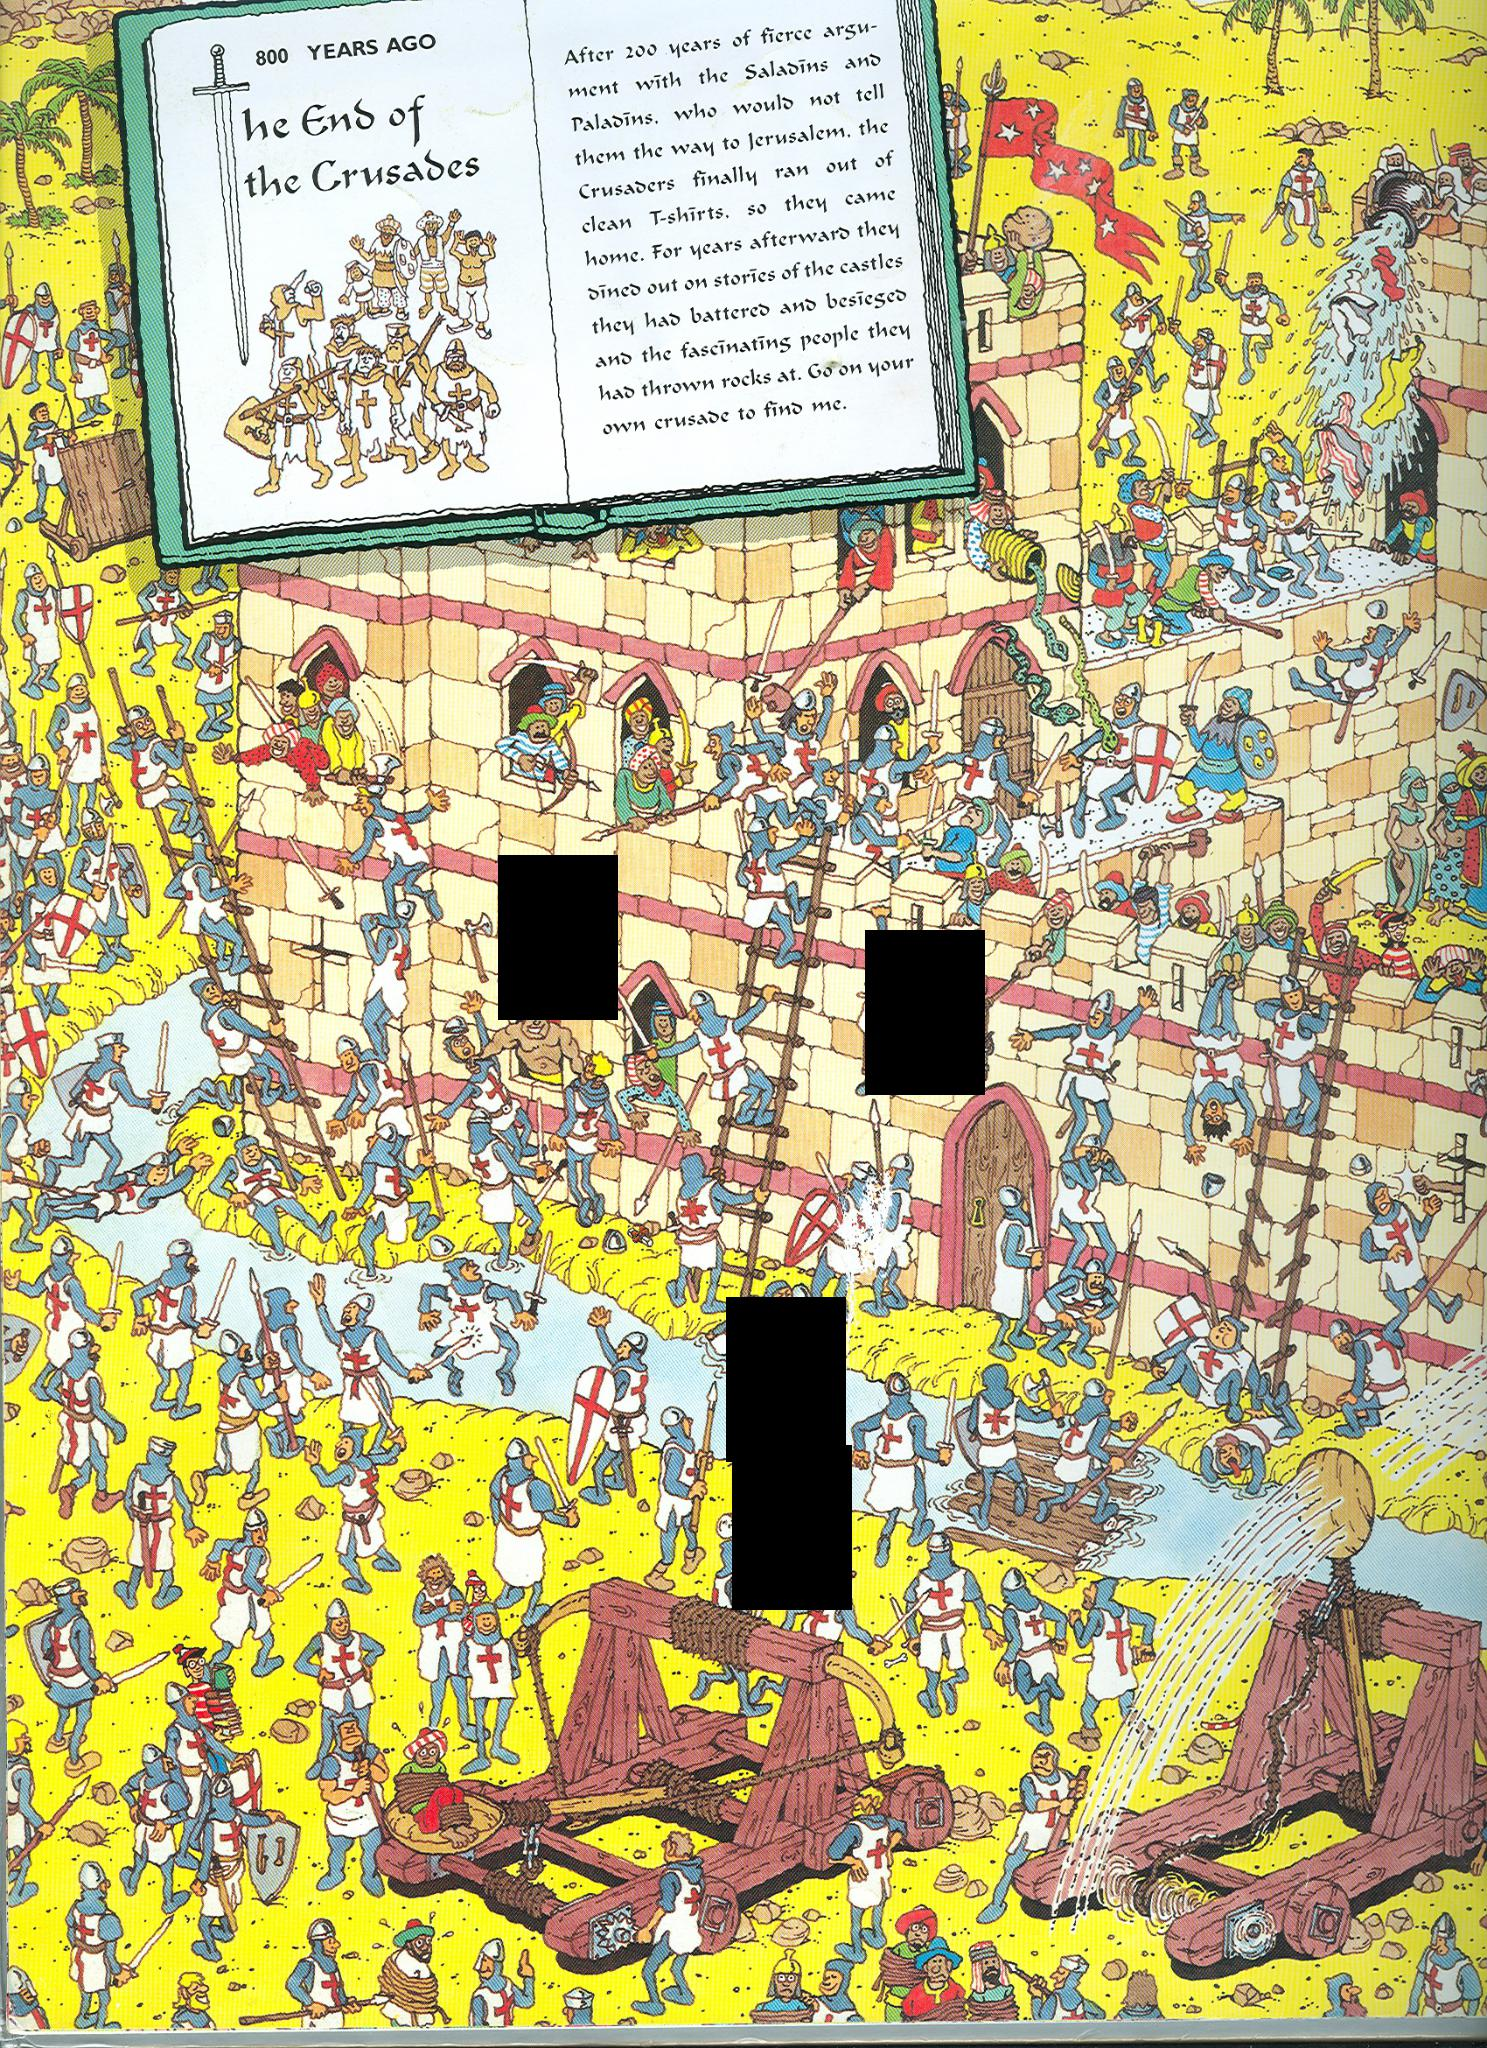waldo: (172, 1644, 207, 1679)
